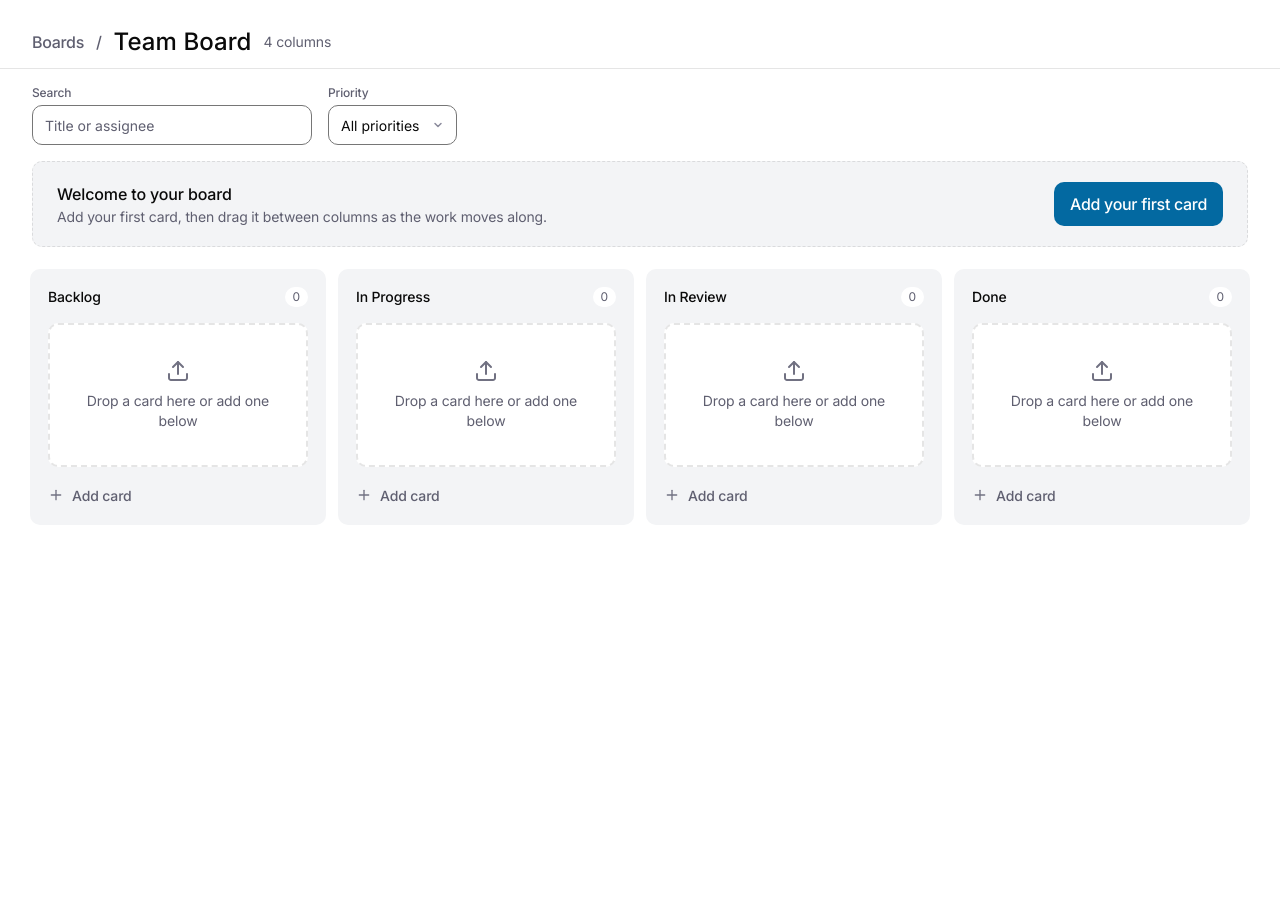
Test case: Board › closes the dialog with Escape and returns focus to the card
Click the button "Add card" below "Backlog" at (102, 495), box [48,483,308,507]
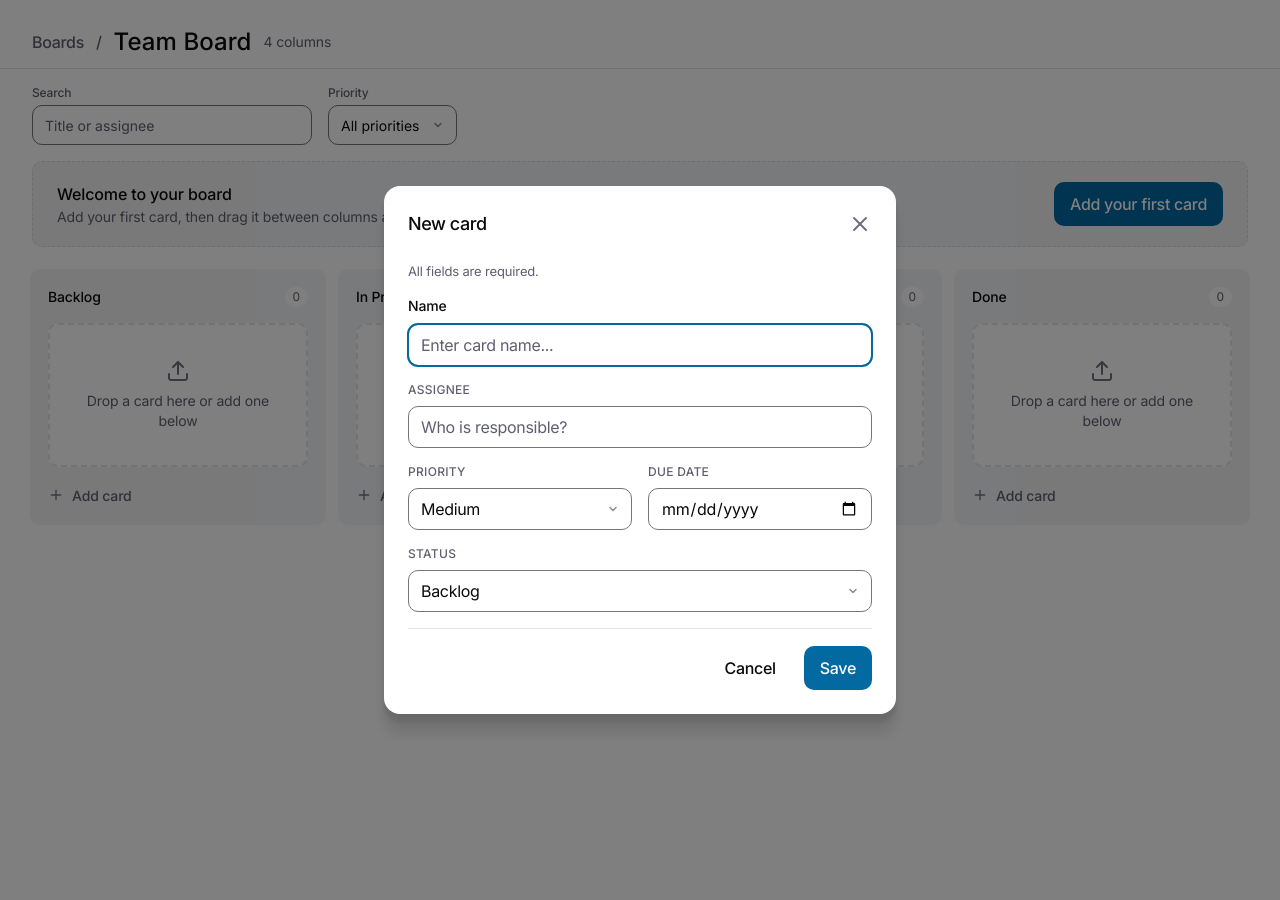
Type "Write docs" into the field labelled "Name" at (640, 345), box [408,324,872,366]
Type "Sam" into the field labelled "Assignee" at (640, 427), box [408,406,872,448]
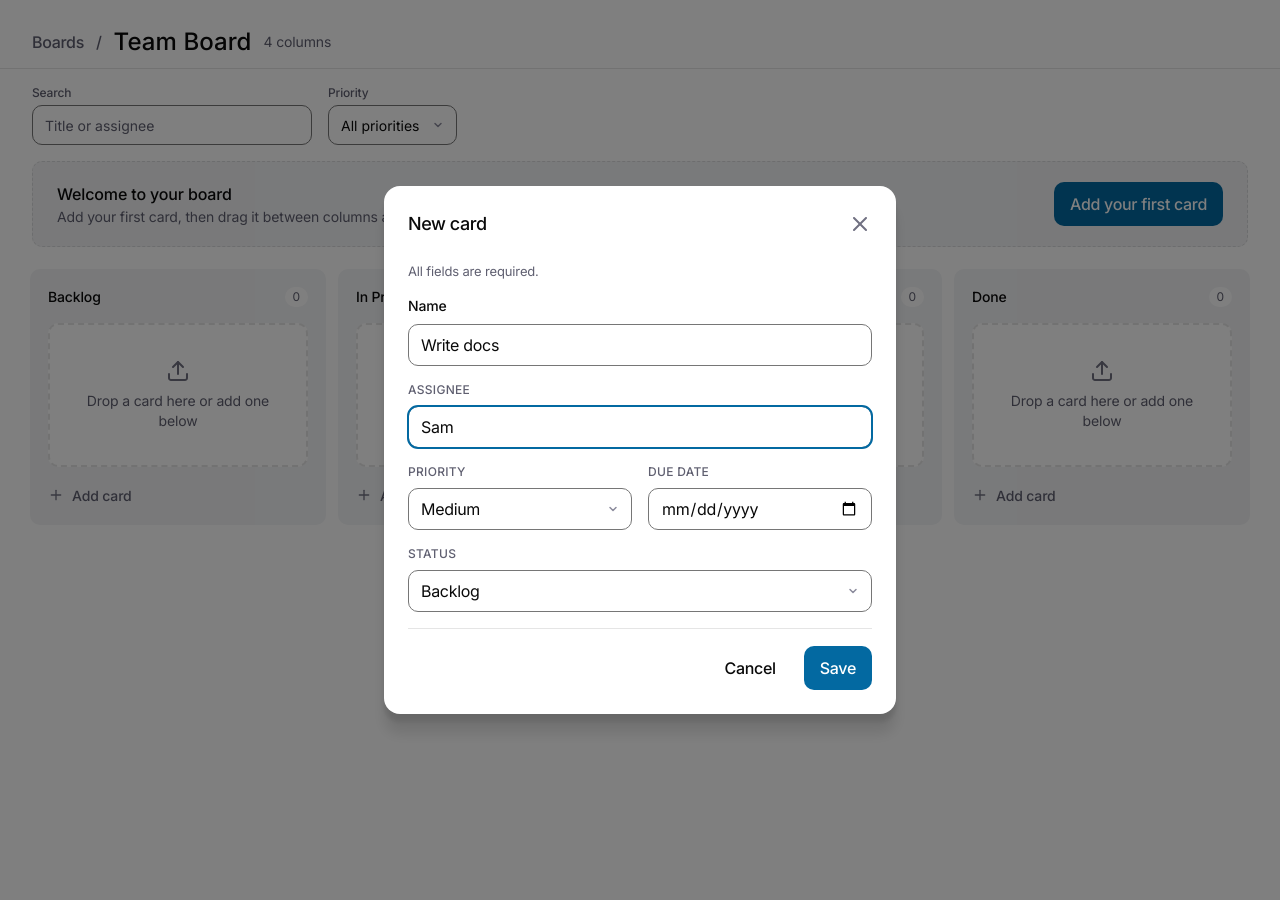
Type "2030-05-01" into the date field labelled "Due date" at (760, 509), box [648,488,872,530]
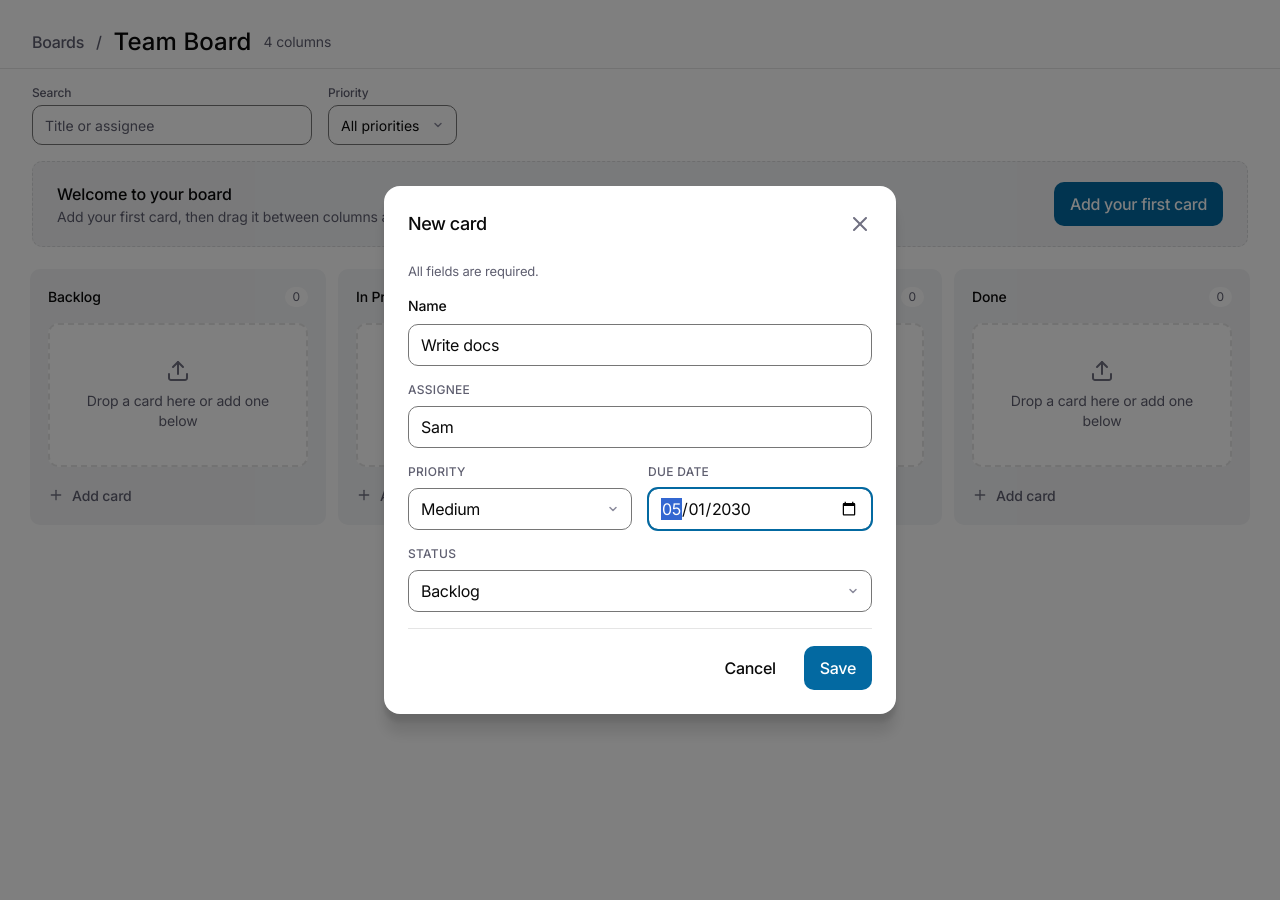
Click the button "Save" at (838, 668), box [804,646,872,690]
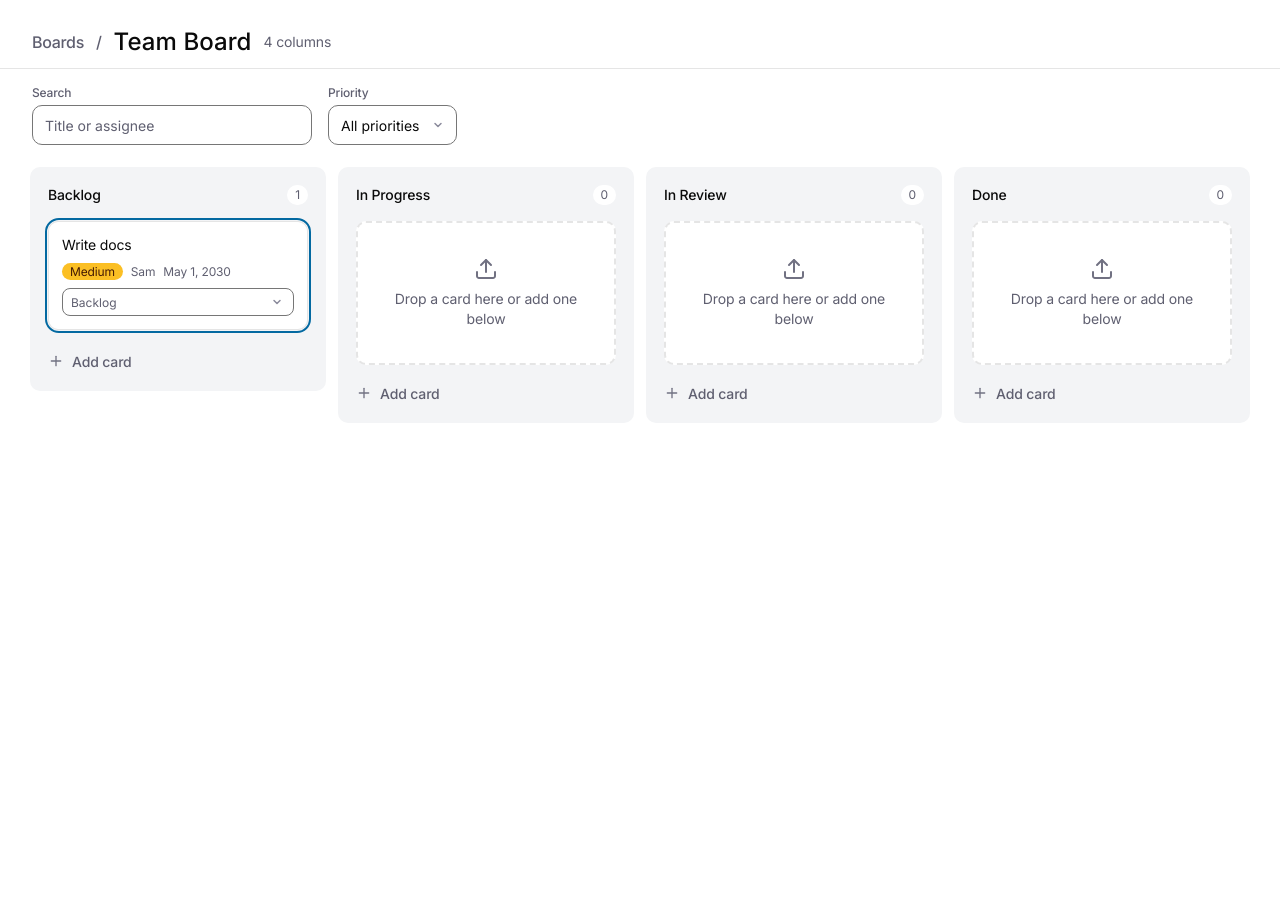
Press Enter
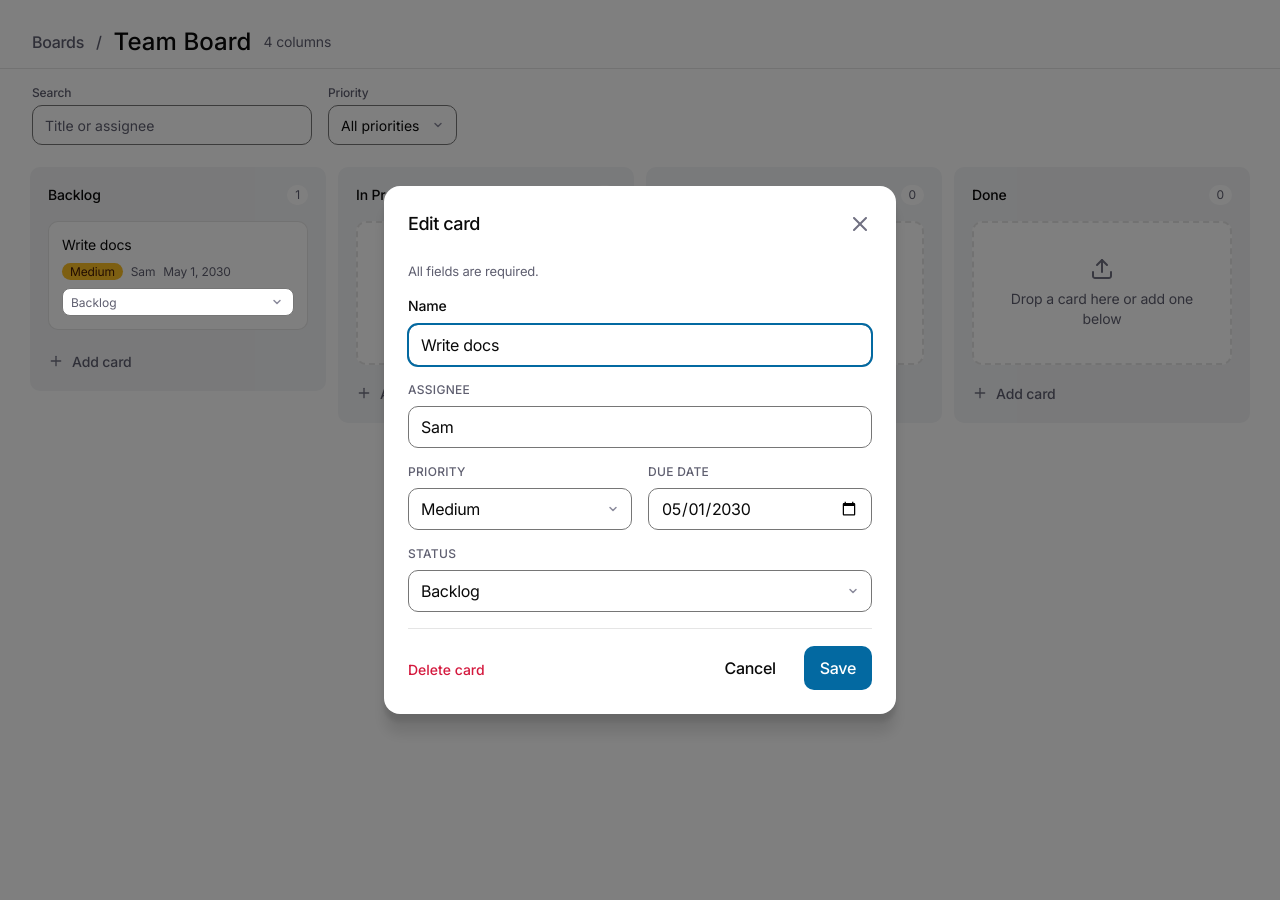
expect the dialog "Edit card" is shown: met, box [384,186,896,714]
Press Escape
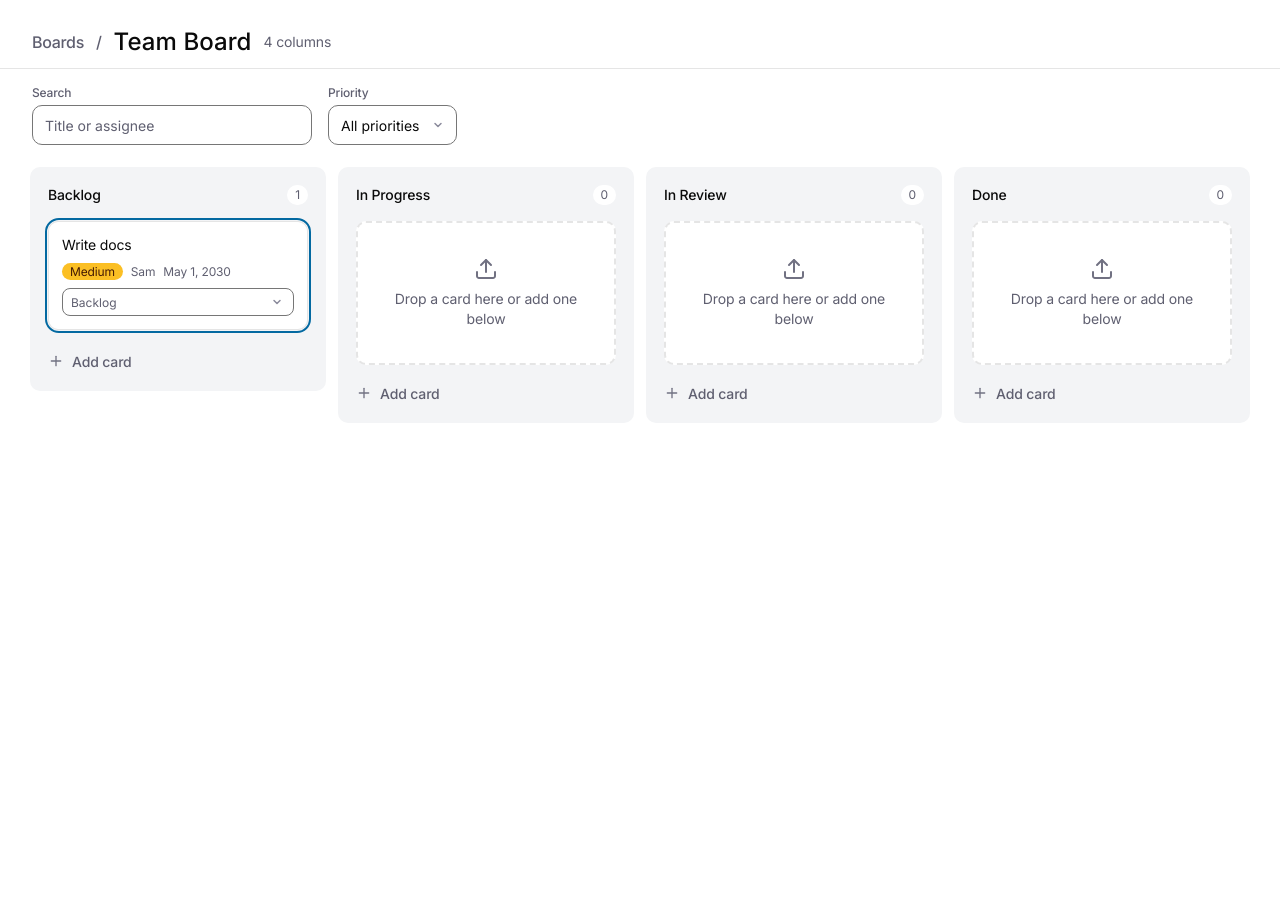
expect the dialog is gone: met
